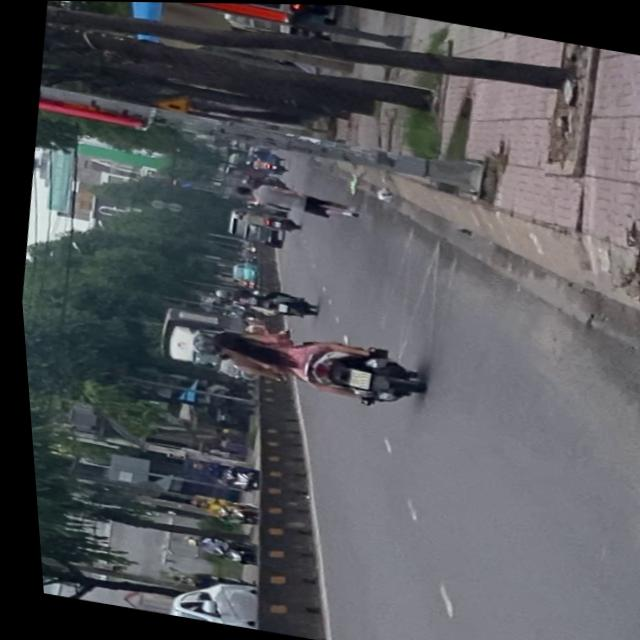helmet: (181, 332, 217, 358)
licenseplate: (175, 314, 423, 416)
motorcyclist: (203, 328, 251, 357)
nohelmet: (339, 368, 366, 389)
